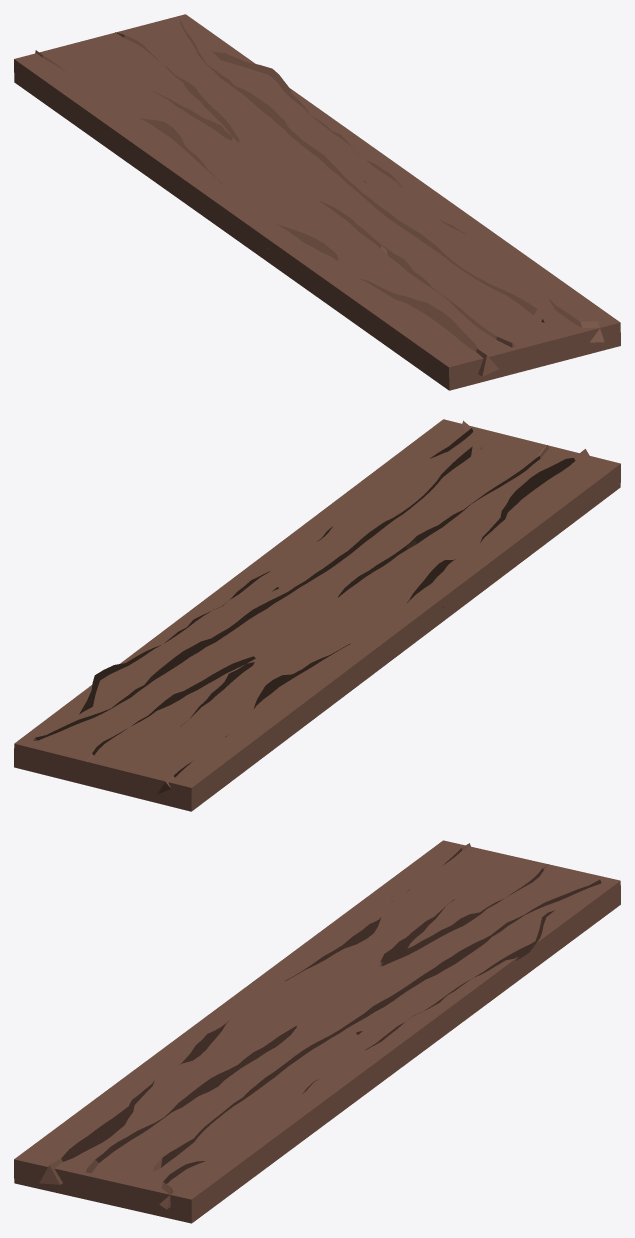
File: wooden plank.fbx
The picture shows the model from 3 angles, top to bottom: view 1: azimuth 30°, elevation 25°; view 2: azimuth 150°, elevation 25°; view 3: azimuth 330°, elevation 25°; orthographic projection. The views are drawn at different scales.
Parts seen in each view (by area): view 1: Node; view 2: Node; view 3: Node.
Boxes of the visible parts, <box> form: Node: <box>14,14,620,390</box>; Node: <box>14,419,620,811</box>; Node: <box>14,840,620,1223</box>.
Bounding box in the file's own units: 8.17 × 1.83 × 34.03.
